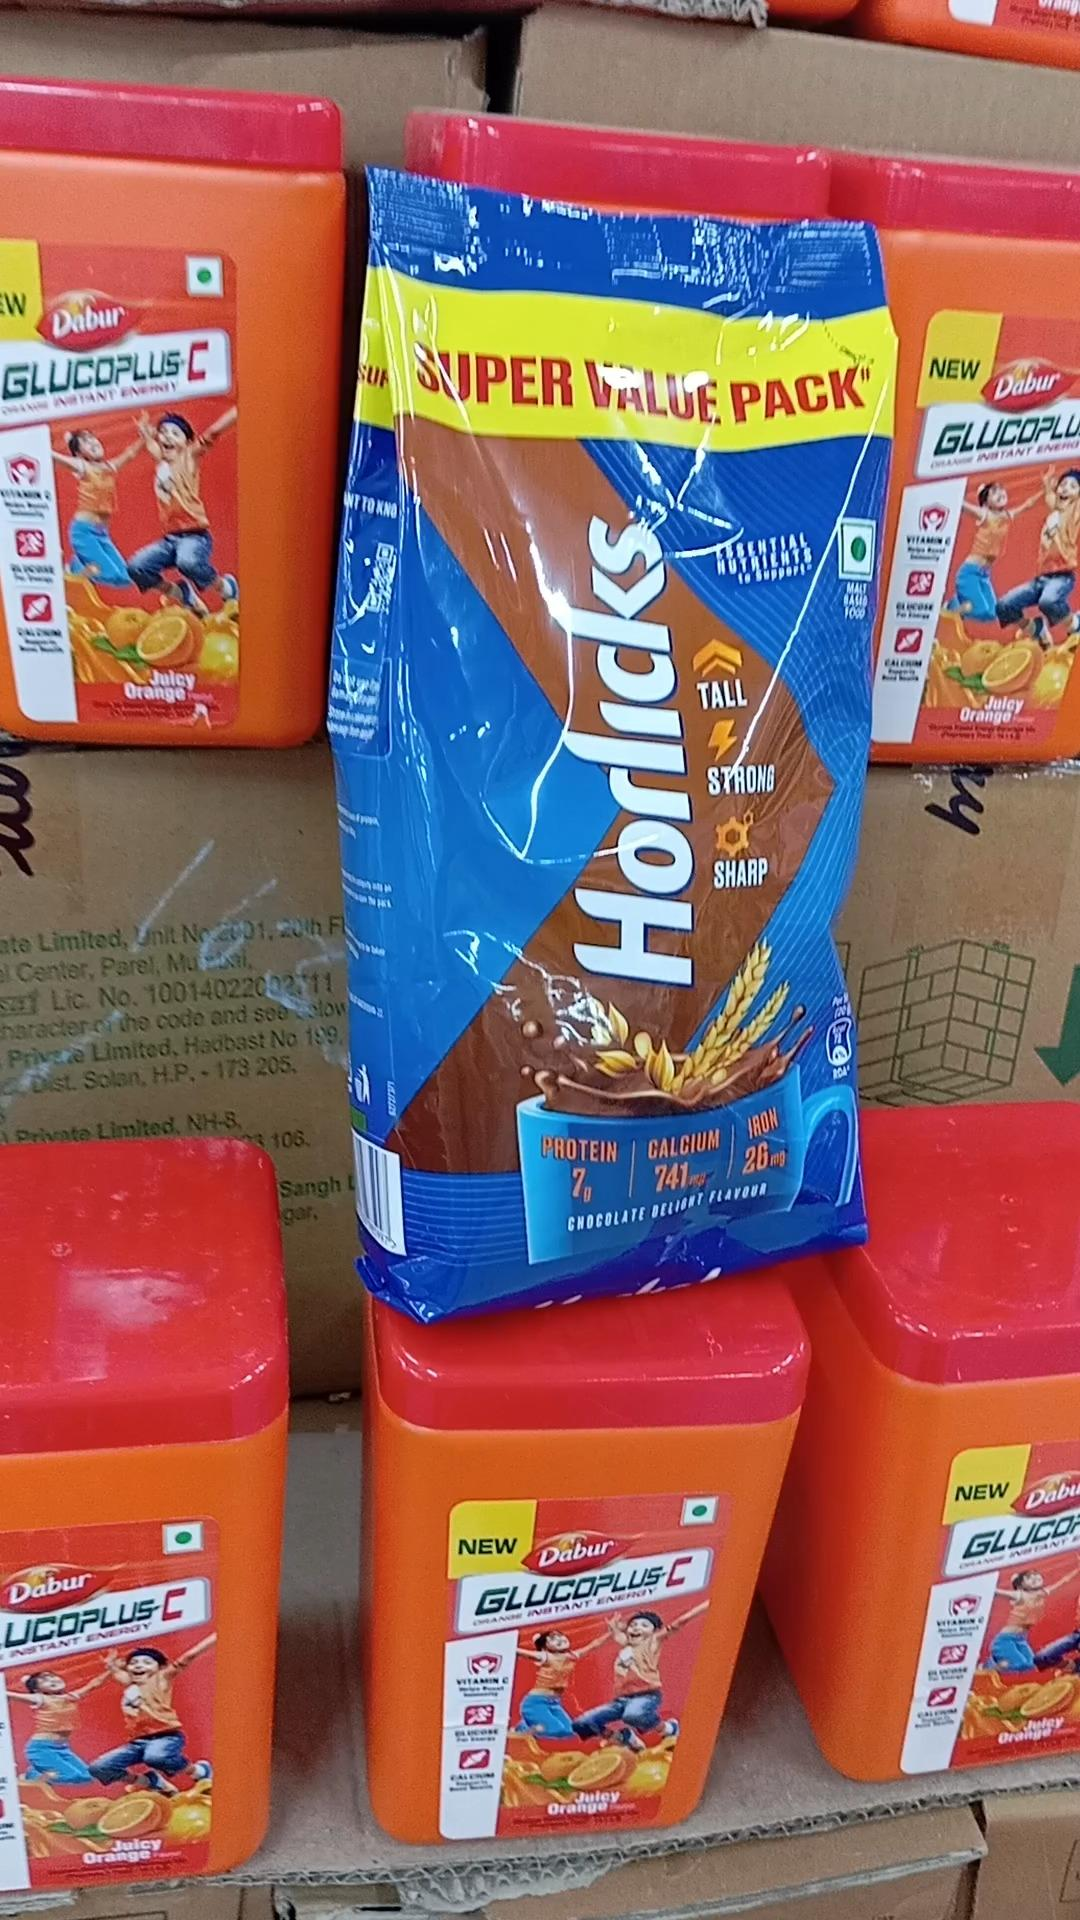HORLICK_CHOCOLATE_750_G_POUCH: (360, 165, 860, 1255)
